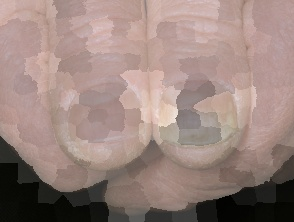Nail_psoriasis: (50, 54, 160, 172), (154, 65, 250, 169)
